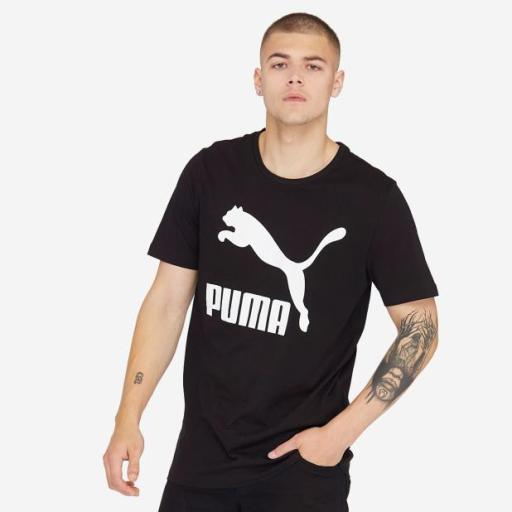Puma: (214, 201, 350, 334)
